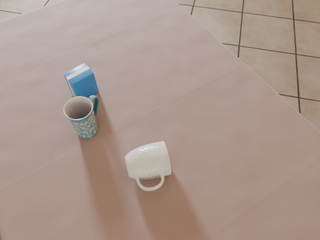box: (64, 63, 99, 98)
cup: (125, 141, 171, 191), (63, 95, 99, 139)
